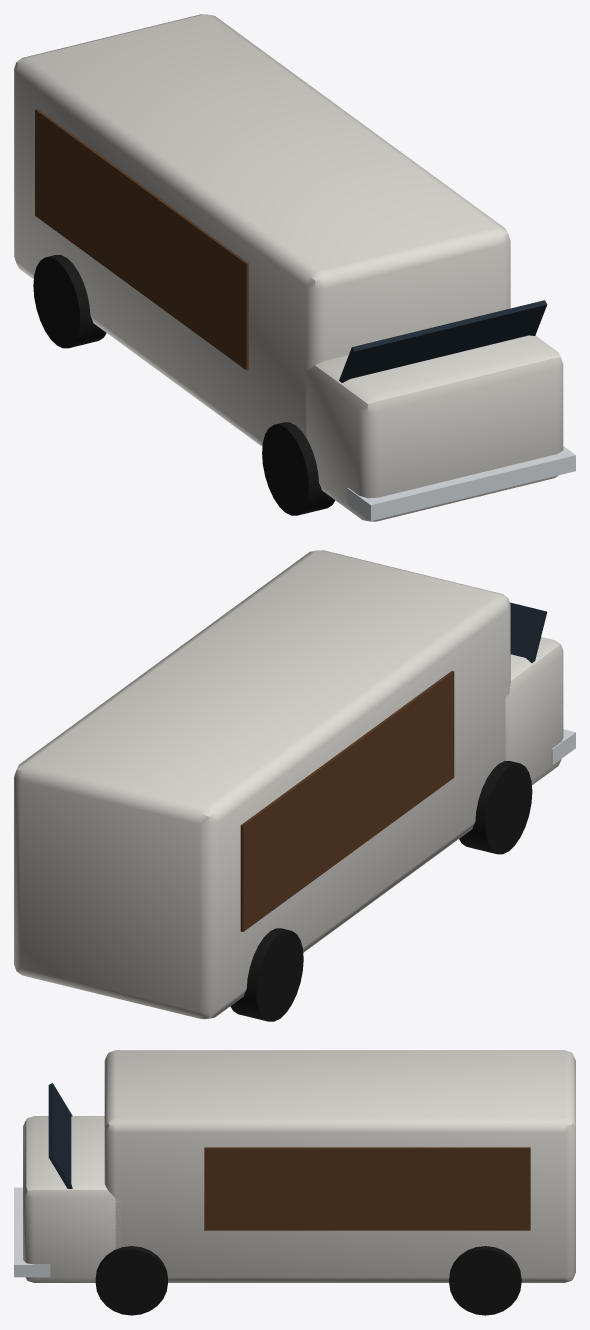
File: van.glb
The picture shows the model from 3 angles, top to bottom: view 1: azimuth 30°, elevation 25°; view 2: azimuth 150°, elevation 25°; view 3: azimuth 270°, elevation 25°; orthographic projection. The views are drawn at different scales.
Parts seen in each view (by area): view 1: van, Cylinder, Cylinder.001; view 2: van, Cylinder.001, Cylinder; view 3: van, Cylinder.002, Cylinder.003.
Boxes of the visible parts, x1,y1,x2,y2 form: van: [14, 14, 575, 521]; Cylinder: [262, 422, 335, 515]; Cylinder.001: [33, 255, 106, 348]; van: [14, 550, 575, 1019]; Cylinder.001: [230, 928, 303, 1021]; Cylinder: [459, 761, 532, 854]; van: [14, 1050, 575, 1282]; Cylinder.002: [95, 1246, 167, 1315]; Cylinder.003: [449, 1246, 521, 1315].
Bounding box in the file's own units: 2.2 × 2.3 × 6.2.
